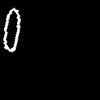chain: (4, 8, 20, 51)
